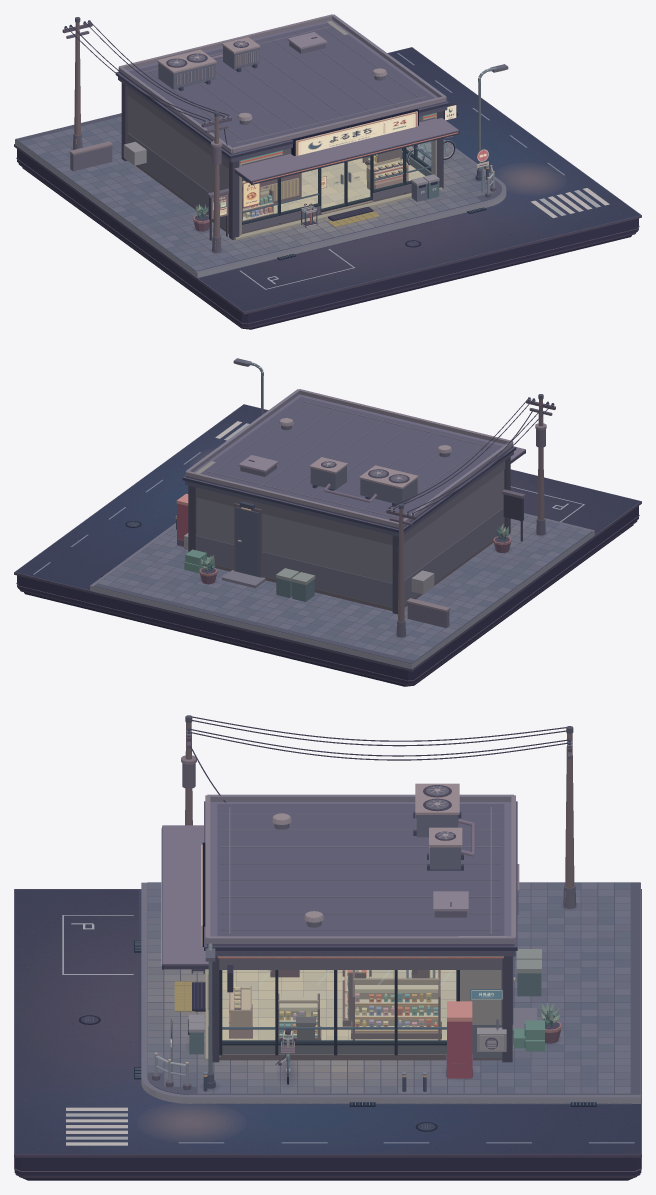
The model's file is yorumachi-mart.glb.
The picture shows the model from 3 angles, top to bottom: view 1: azimuth 30°, elevation 25°; view 2: azimuth 150°, elevation 25°; view 3: azimuth 270°, elevation 25°; orthographic projection. The views are drawn at different scales.
Parts seen in each view (by area): view 1: 01 · Square plinth and streets, 02 · Yorumachi Mart | architecture, 11 · Utility wires, service roofs and street details, 03 · Original shop identity and canopy, 04 · Interior | shelves and packaged goods, 07 · Shopfront props, 10 · Corner railing, street light and utility pole, 05 · Interior | chillers and service counter, 08 · Vending machine and east alley; view 2: 01 · Square plinth and streets, 02 · Yorumachi Mart | architecture, 11 · Utility wires, service roofs and street details, 08 · Vending machine and east alley, 07 · Shopfront props; view 3: 01 · Square plinth and streets, 02 · Yorumachi Mart | architecture, 11 · Utility wires, service roofs and street details, 04 · Interior | shelves and packaged goods, 03 · Original shop identity and canopy, 08 · Vending machine and east alley, 10 · Corner railing, street light and utility pole, 07 · Shopfront props, 09 · Roadside bicycle.
Boxes of the visible parts, x1,y1,x2,y2 form: 01 · Square plinth and streets: (14,47,641,329); 02 · Yorumachi Mart | architecture: (115,14,449,240); 11 · Utility wires, service roofs and street details: (62,17,387,252); 03 · Original shop identity and canopy: (234,102,459,184); 04 · Interior | shelves and packaged goods: (242,148,408,221); 07 · Shopfront props: (207,174,439,240); 10 · Corner railing, street light and utility pole: (473,64,551,197); 05 · Interior | chillers and service counter: (242,173,326,207); 08 · Vending machine and east alley: (123,141,146,165); 01 · Square plinth and streets: (14,404,641,686); 02 · Yorumachi Mart | architecture: (182,389,516,614); 11 · Utility wires, service roofs and street details: (199,394,555,637); 08 · Vending machine and east alley: (176,493,434,601); 07 · Shopfront props: (502,489,525,541); 01 · Square plinth and streets: (14,882,641,1180); 02 · Yorumachi Mart | architecture: (204,794,517,1062); 11 · Utility wires, service roofs and street details: (181,715,576,1044); 04 · Interior | shelves and packaged goods: (229,970,441,1040); 03 · Original shop identity and canopy: (161,825,503,992); 08 · Vending machine and east alley: (446,949,544,1078); 10 · Corner railing, street light and utility pole: (152,943,503,1134); 07 · Shopfront props: (187,969,205,1054); 09 · Roadside bicycle: (275,1028,296,1084).
Size of the model in its own units: 14 by 5.55 by 14.
Materials: 15 (11 with a texture image).
